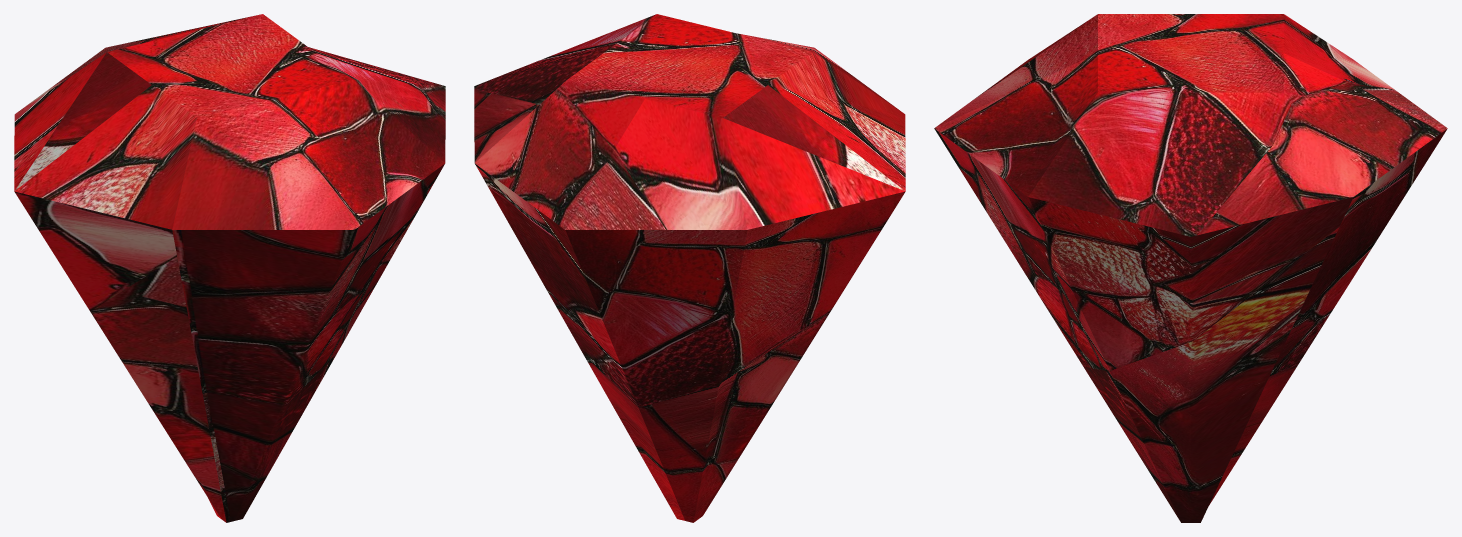
Rendered from gemstone3RedCompressed.glb.
The picture shows the model from 3 angles, left to right: view 1: azimuth 30°, elevation 25°; view 2: azimuth 150°, elevation 25°; view 3: azimuth 270°, elevation 25°; orthographic projection. The views are drawn at different scales.
Visible parts, largest first — view 1: gemstone2; view 2: gemstone2; view 3: gemstone2.
Part boxes in pixels (left/top/right/bottom): gemstone2: left=14, top=14, right=445, bottom=522; gemstone2: left=474, top=14, right=905, bottom=522; gemstone2: left=934, top=14, right=1447, bottom=522.
Size of the model in its own units: 1 by 1 by 1.
1 material, 1 textured.
